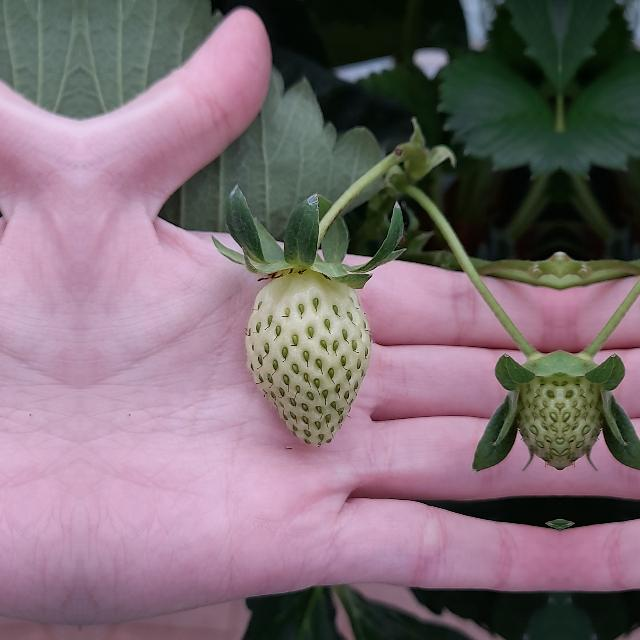Health_25: (246, 268, 370, 444)
